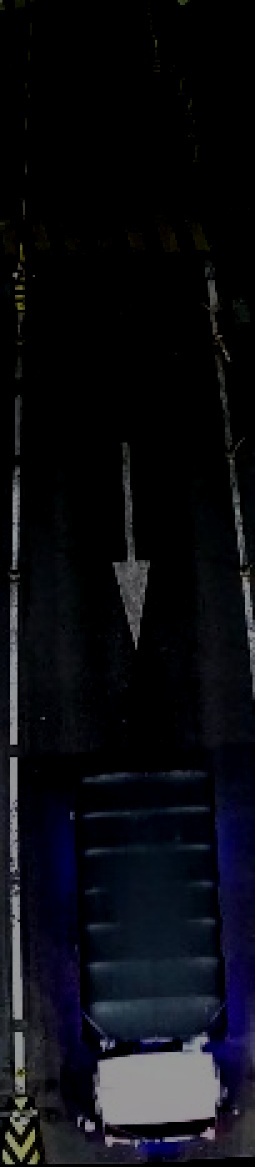truck: (60, 753, 249, 1153)
